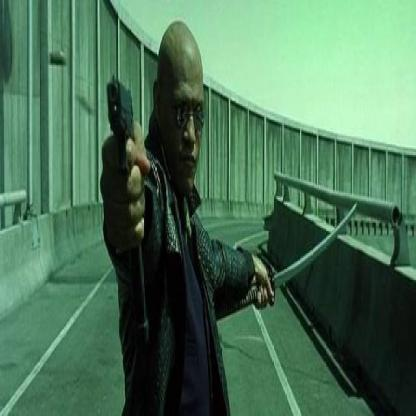Pistol: (75, 70, 179, 353)
